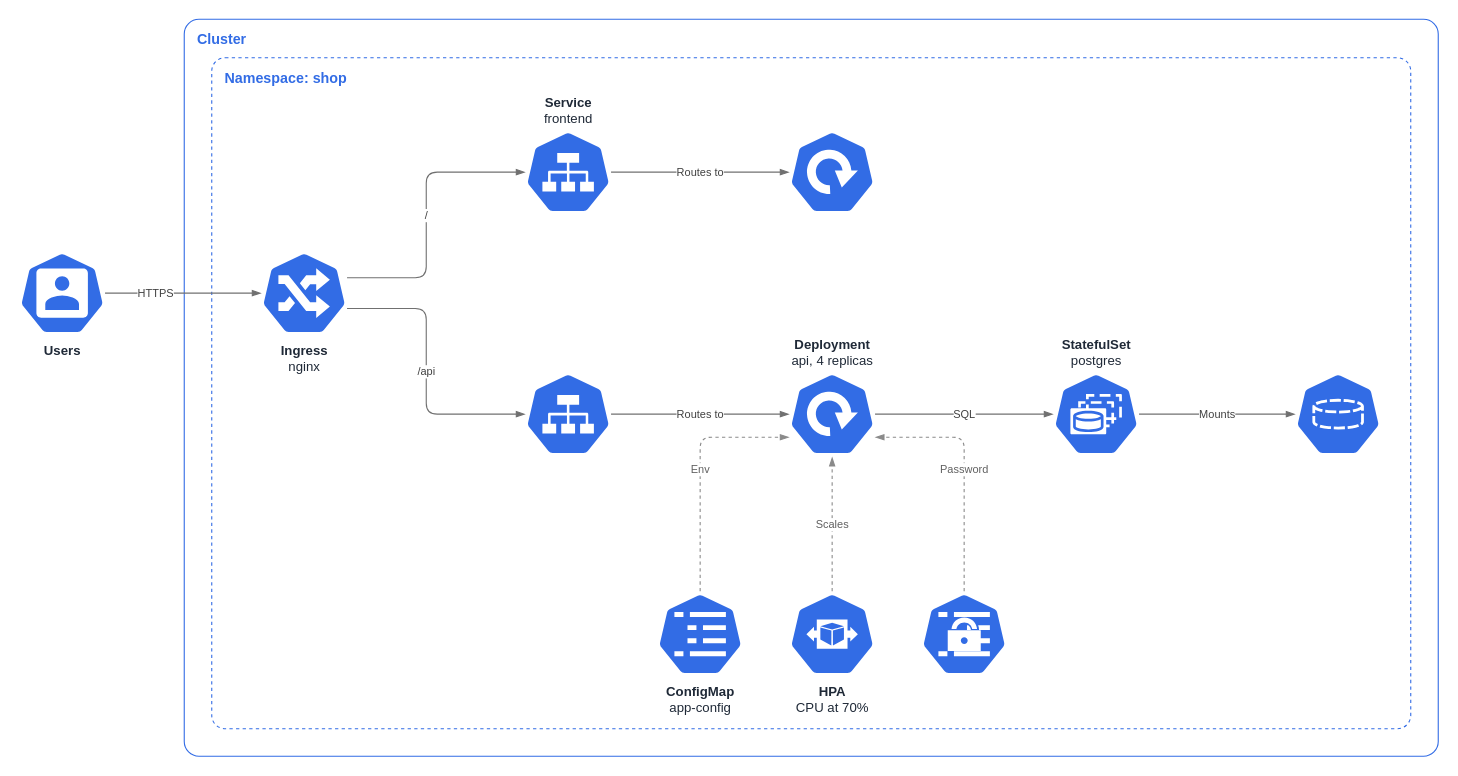
This 1458x776 diagram has some shape labels left out. Here are the shapes that lost their labels. From the top down, the box of each, then its label:
(788, 128, 875, 215): Deployment frontend, 3 replicas
(524, 370, 611, 457): Service api
(1294, 370, 1381, 457): PVC 100 GiB
(920, 590, 1007, 677): Secret db-credentials
